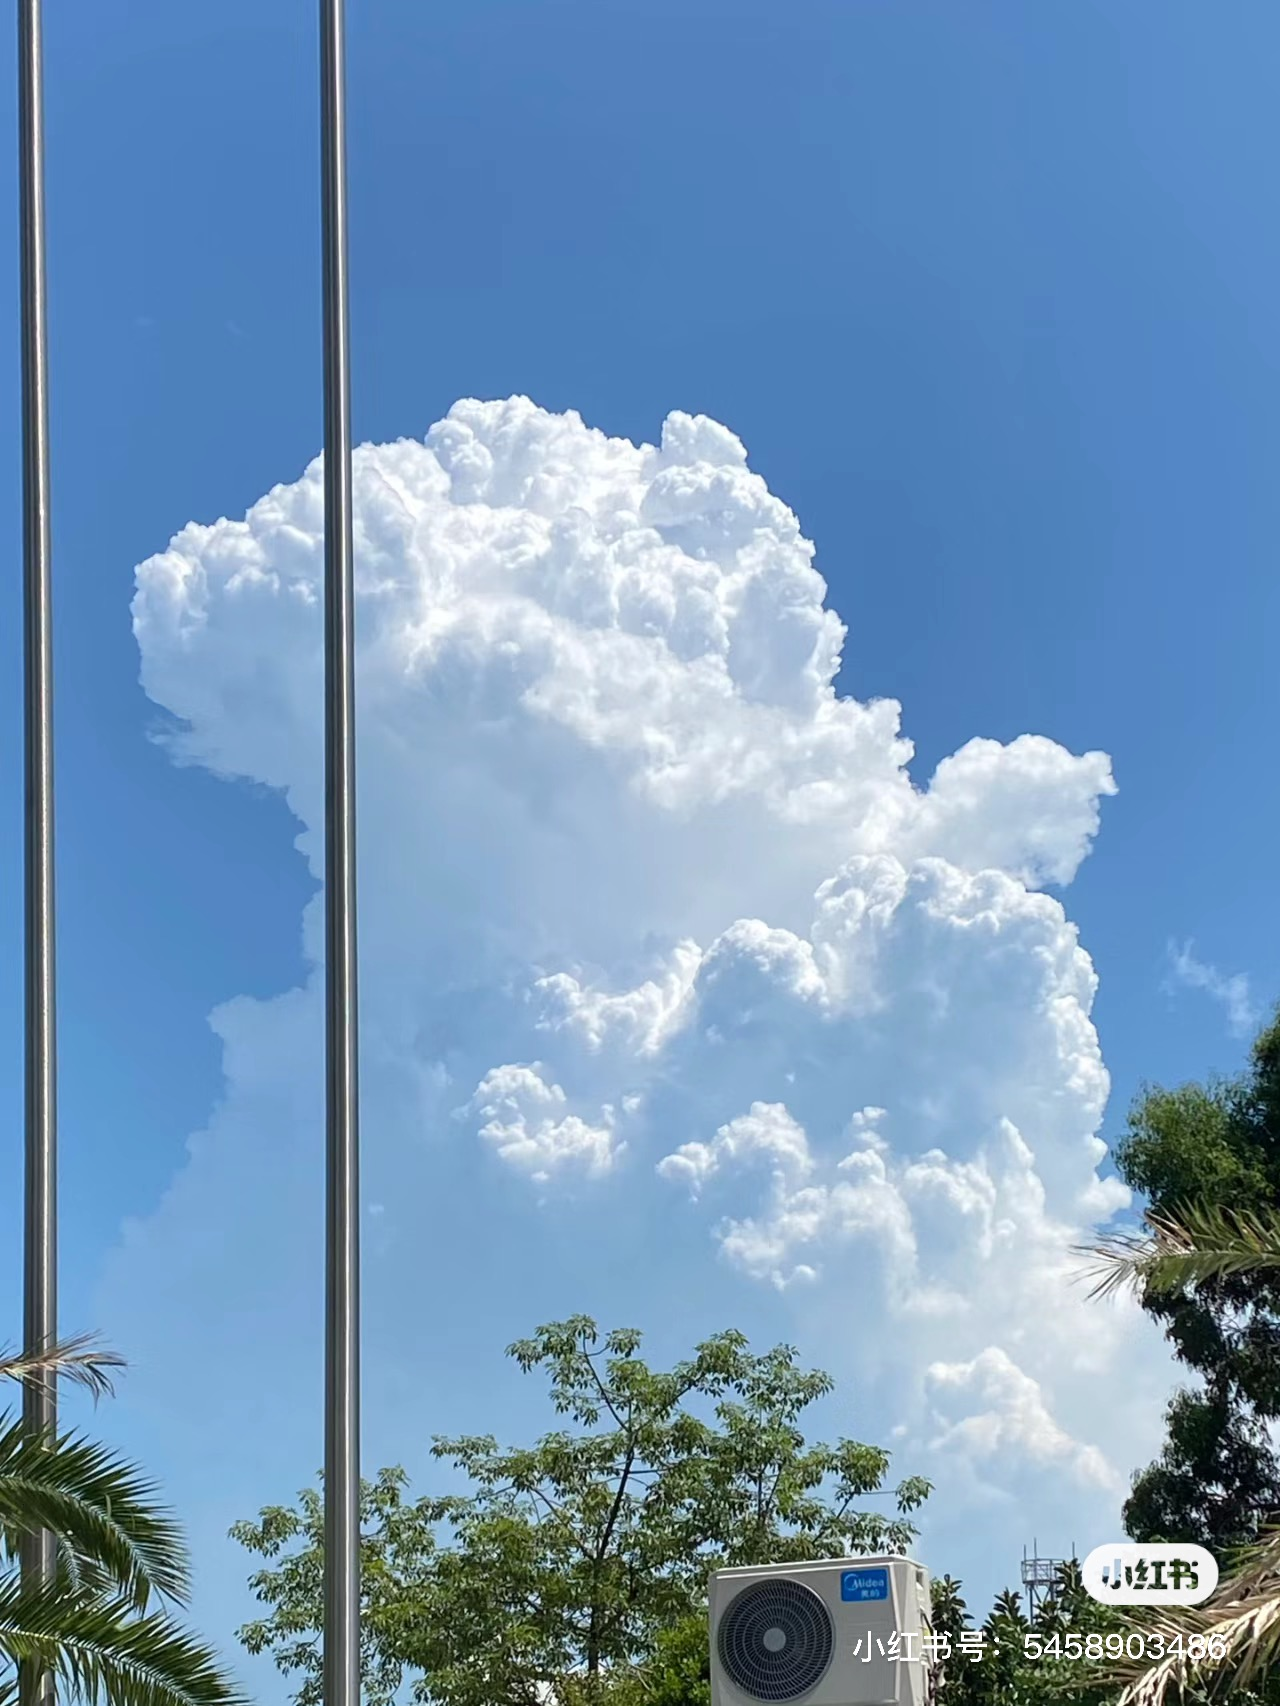Cumulus: (156, 350, 1125, 1530)
